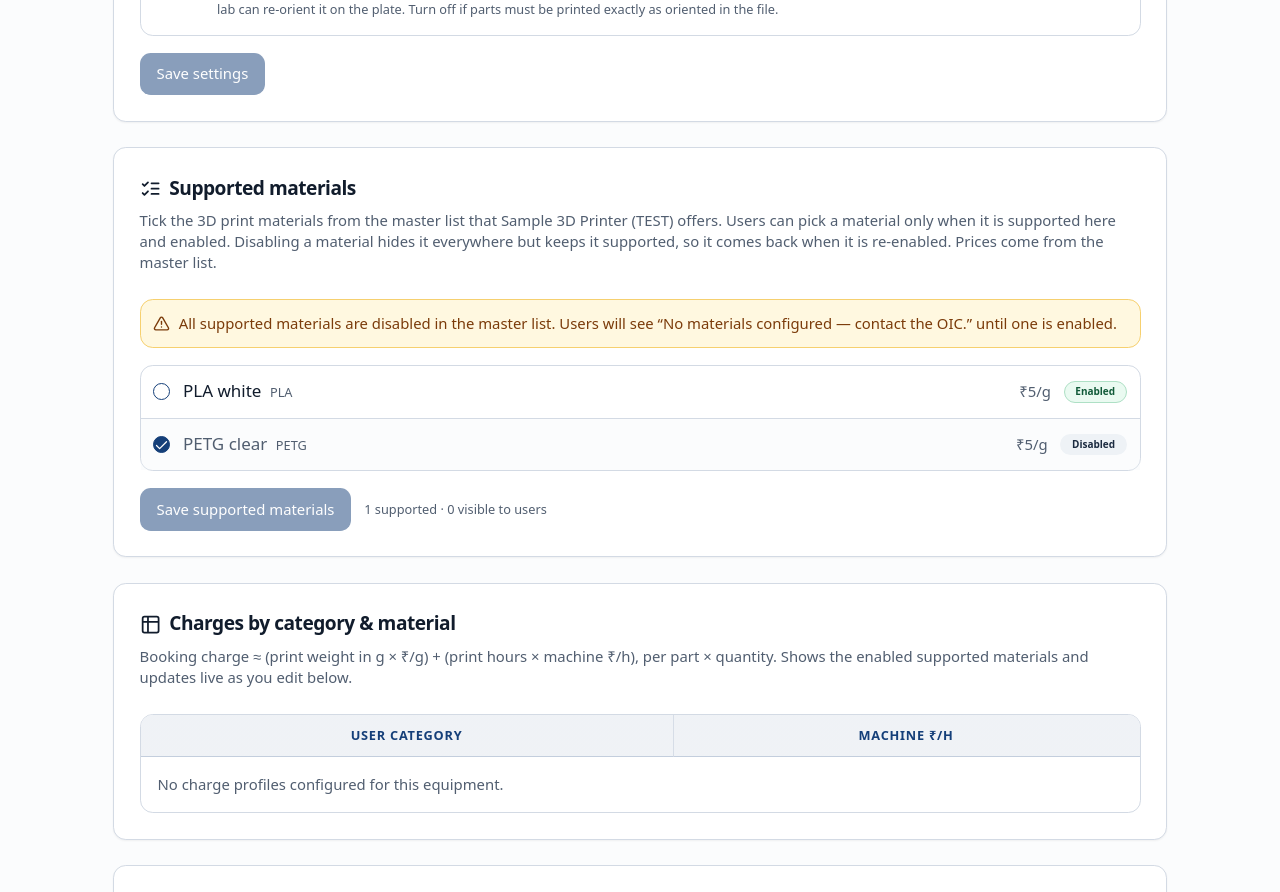
Test: OICPrintMaterials supported materials › warns the OIC when users would see no material
(page scrolled)
Expected: the message with test id "supported-materials-warning" shows "All supported materials are disabled", [179,313,1117,333]
Step 1. Click the checkbox named "PETG clear" next to "PETG clear" → (162, 444), box [153,436,170,453]
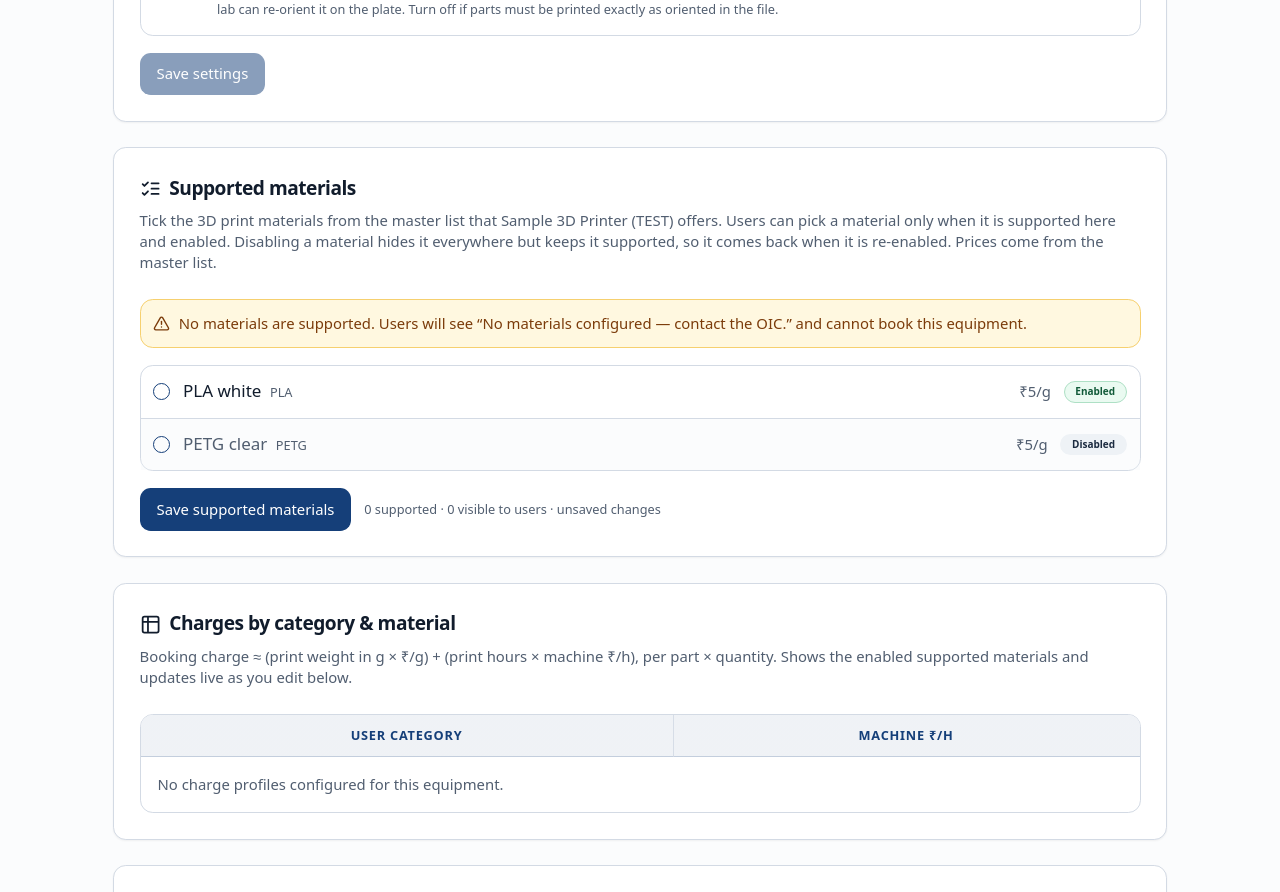
Expected: the message with test id "supported-materials-warning" shows "No materials are supported", [179,313,1027,333]
